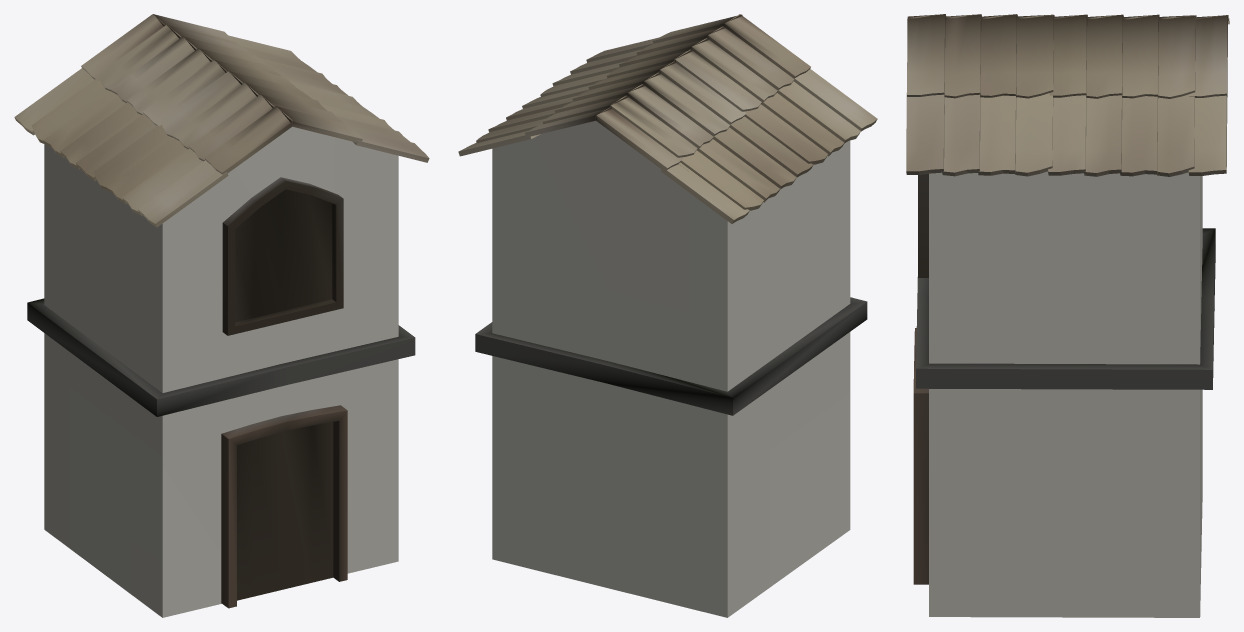
File: House04 (1).fbx
The picture shows the model from 3 angles, left to right: view 1: azimuth 30°, elevation 25°; view 2: azimuth 150°, elevation 25°; view 3: azimuth 270°, elevation 25°; orthographic projection. The views are drawn at different scales.
Parts seen in each view (by area): view 1: House04_LOD0; view 2: House04_LOD0; view 3: House04_LOD0.
Part boxes in pixels (box(x1,y1,x2,y2)): House04_LOD0: box(14, 14, 429, 617); House04_LOD0: box(458, 14, 877, 617); House04_LOD0: box(906, 14, 1229, 617).
Size of what is drawn, in the model's own units: 141 by 231 by 126.
